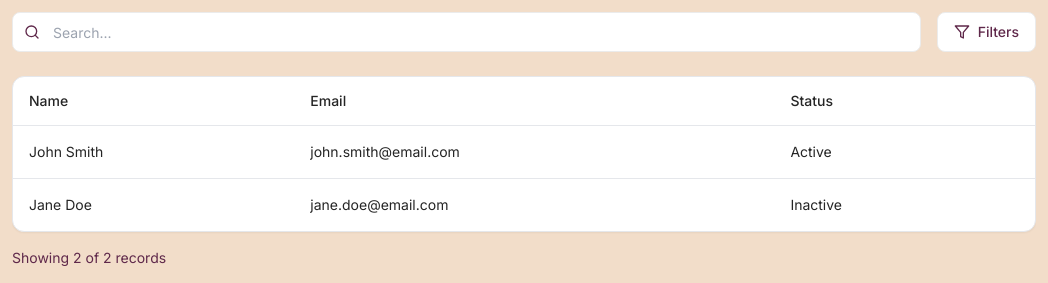
DataTable › filters data based on search query
The image size is (1048, 283).
Type "John" into the field with placeholder "Search..." at x=466, y=32, box [12,12,921,52]
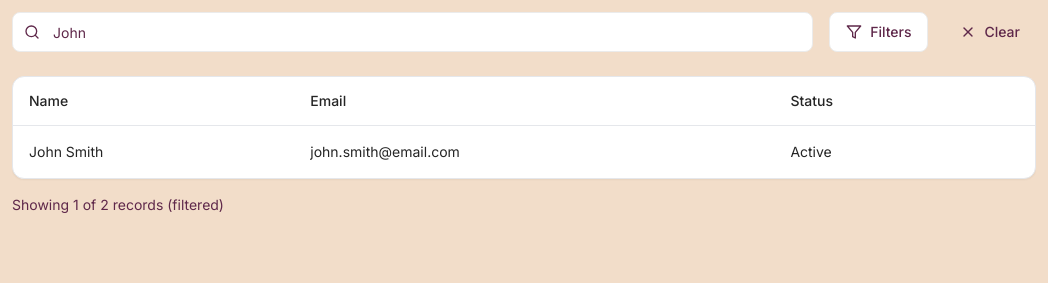
Expected: the text "John Smith" is shown, [13,125,294,178]
Expected: the text "Jane Doe" is gone
